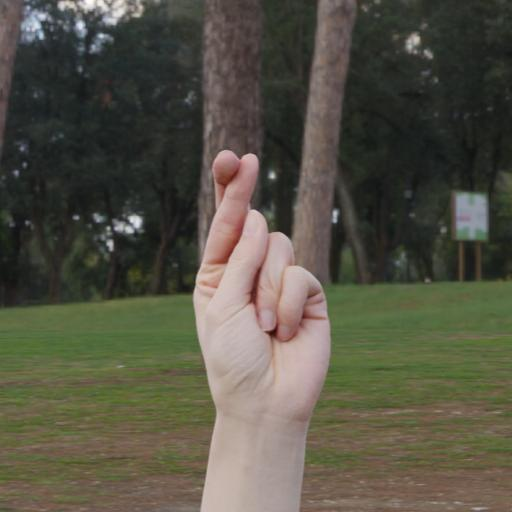R: (180, 132, 352, 426)
